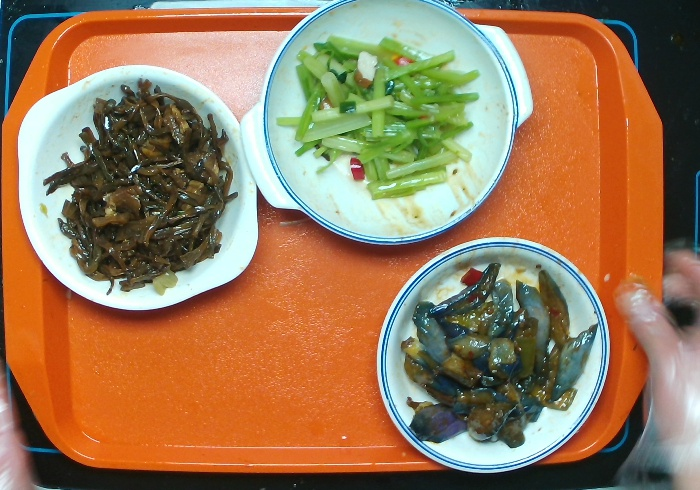HZYJPL-Dai_Er_Bai_Yuan_Wan: (12, 62, 261, 317)
HZYJPL-Lan_Bian_Dai_Er_Wan: (241, 3, 535, 250)
HZYJPL-Lan_Bian_Yuan_Die: (373, 236, 612, 476)
